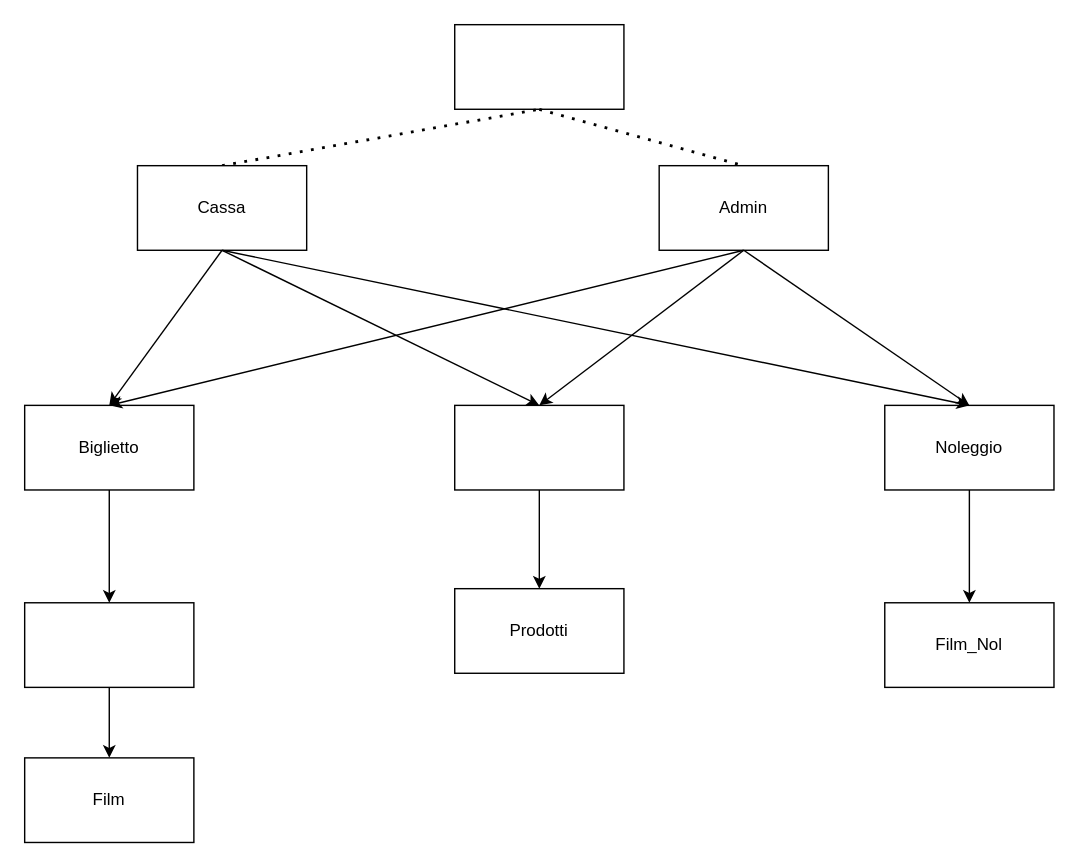
The diagram is 1079 pixels wide and 867 high, and some of its shapes have lost their labels. Each missing label, with the centre of its shape:
Bar: point 538,447
Sala: point 108,644
SHOP MANAGER: point 538,66
